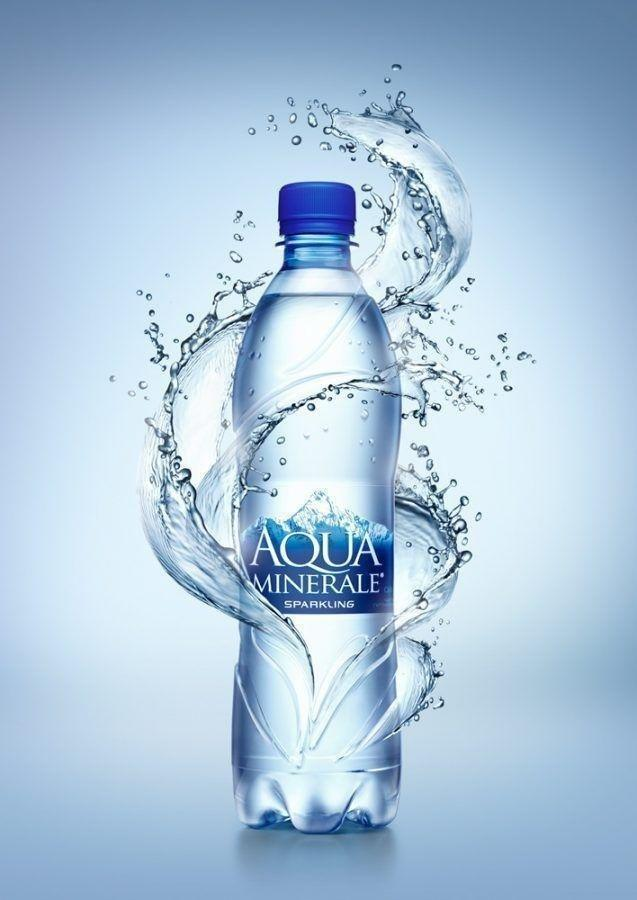bottle-plastic: (224, 176, 409, 839)
